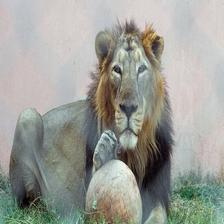Lion: (0, 19, 187, 224)
